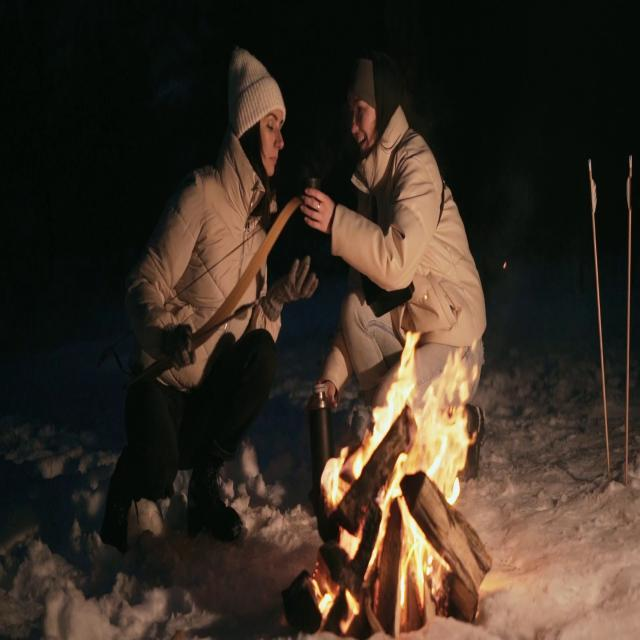Fire: (319, 301, 484, 624)
